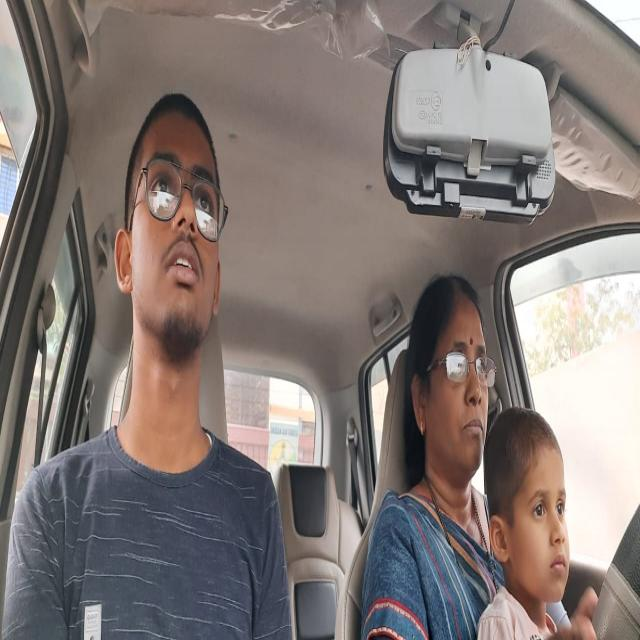child: (487, 406, 573, 611)
person: (115, 87, 229, 361), (412, 265, 497, 494)
